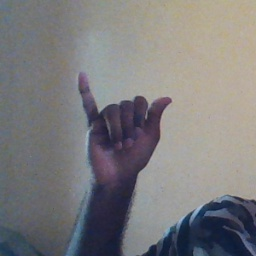J: (73, 71, 175, 177)
